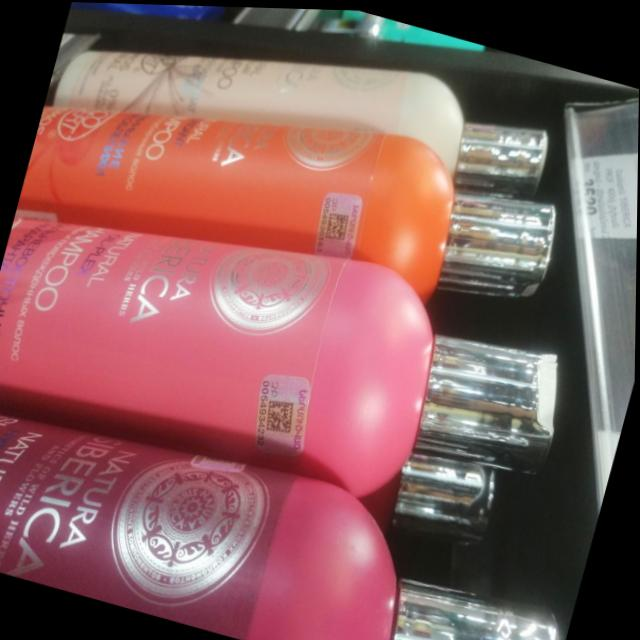datamatrix: (263, 394, 299, 436), (323, 208, 352, 243)
